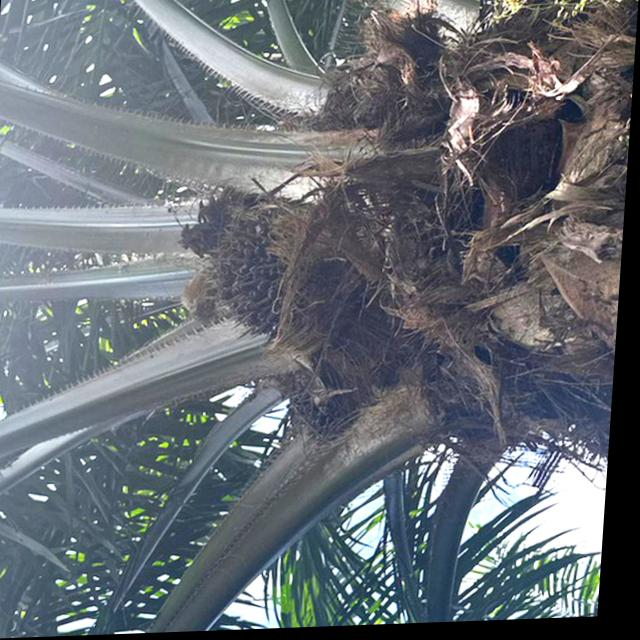almost: (199, 191, 347, 351)
